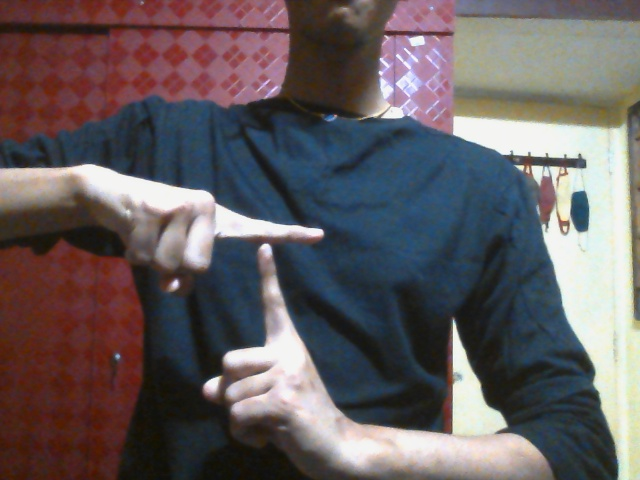T: (127, 180, 325, 455)
